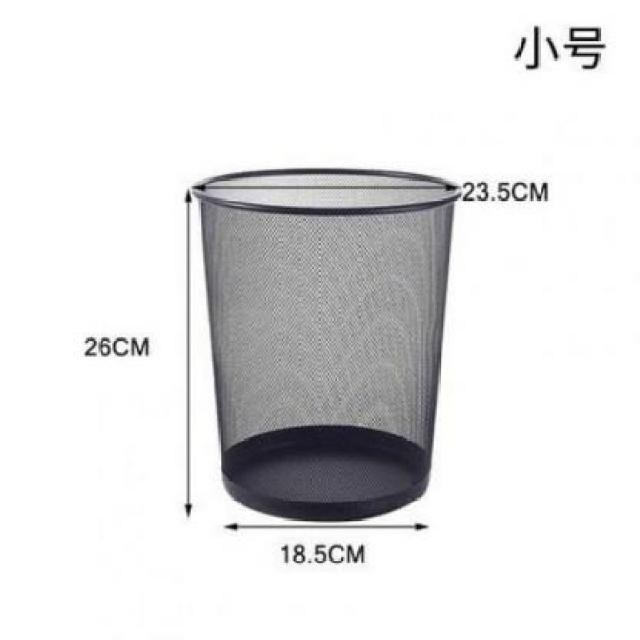dustbin: (194, 162, 466, 526)
